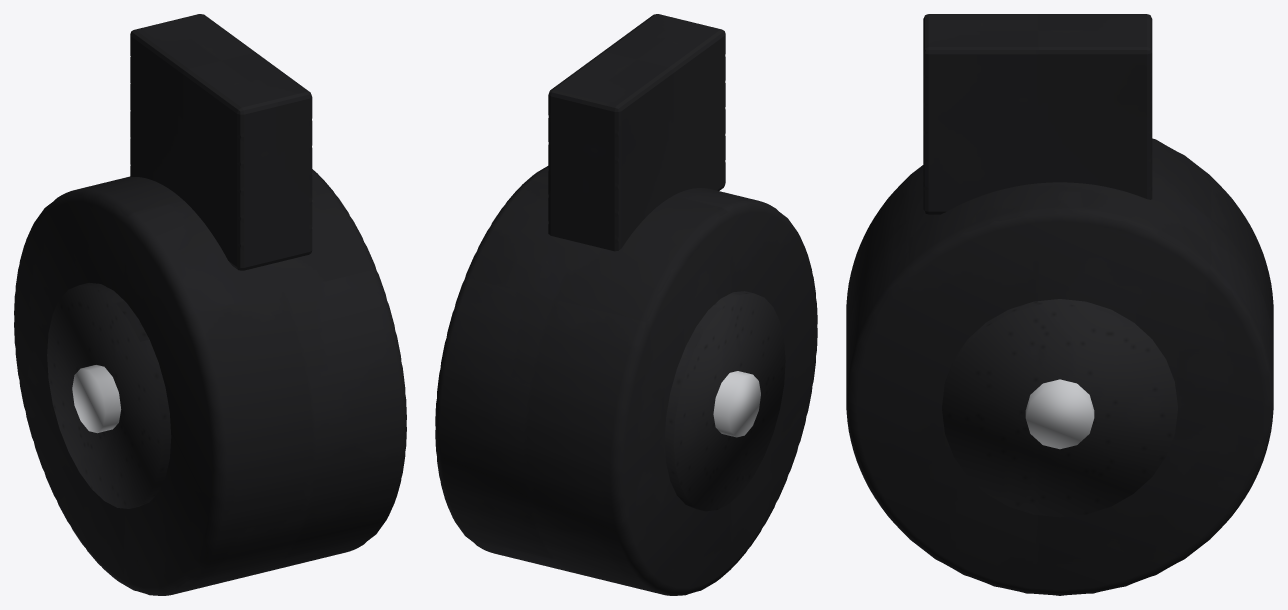
File: mag_drum_rifle.glb
The picture shows the model from 3 angles, left to right: view 1: azimuth 30°, elevation 25°; view 2: azimuth 150°, elevation 25°; view 3: azimuth 270°, elevation 25°; orthographic projection. The views are drawn at different scales.
Parts seen in each view (by area): view 1: drum, neck, cap_l, wind; view 2: drum, neck, cap_l, wind; view 3: drum, neck, cap_l, wind.
Part boxes in pixels (x1,y1,x2,y2): drum: (14,169,406,595); neck: (130,14,312,270); cap_l: (47,283,171,508); wind: (72,365,121,433); drum: (435,166,817,595); neck: (548,14,725,251); cap_l: (664,291,785,511); wind: (713,371,760,437); drum: (846,138,1273,595); neck: (923,14,1152,214); cap_l: (942,299,1177,517); wind: (1025,379,1094,449).
Size of the model in its own units: 0.078 by 0.1554 by 0.1157.
3 materials, 2 textured.
